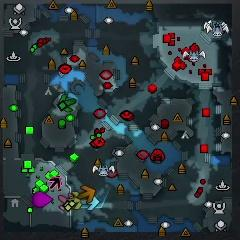p3: (32, 192, 53, 208)
x1: (58, 193, 73, 210)
x1Clone: (49, 178, 61, 190)
x2: (67, 191, 82, 210)
x3: (83, 196, 100, 211)
x4: (60, 95, 76, 112)
x5: (78, 185, 96, 203)
